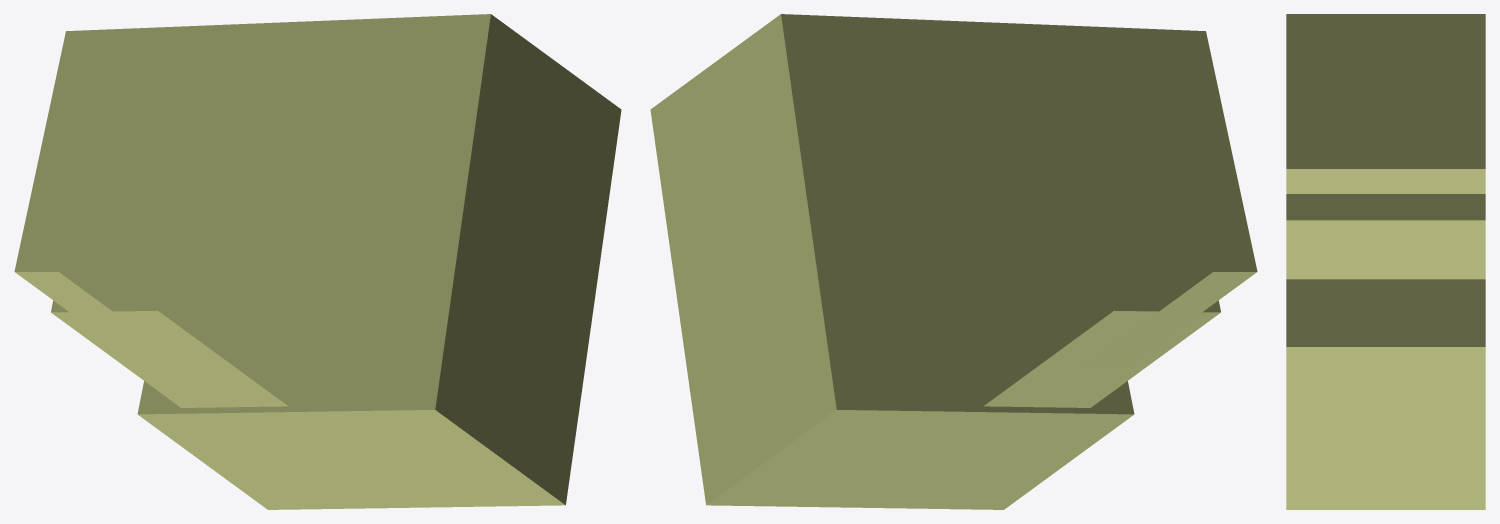
3 renders of one model, left to right at view 1: azimuth 30°, elevation 25°; view 2: azimuth 150°, elevation 25°; view 3: azimuth 270°, elevation 25°, orthographic. The views are drawn at different scales.
Visible parts, largest first — view 1: 0_1_2_0_1_1_0_0_3_0_1; view 2: 0_1_2_0_1_1_0_0_3_0_1; view 3: 0_1_2_0_1_1_0_0_3_0_1.
Part boxes in pixels (box(x1,y1,x2,y2)): 0_1_2_0_1_1_0_0_3_0_1: box(14, 14, 621, 509); 0_1_2_0_1_1_0_0_3_0_1: box(650, 14, 1257, 509); 0_1_2_0_1_1_0_0_3_0_1: box(1286, 14, 1485, 509).
Bounding box in the file's own units: 12.64 × 11.89 × 6.
